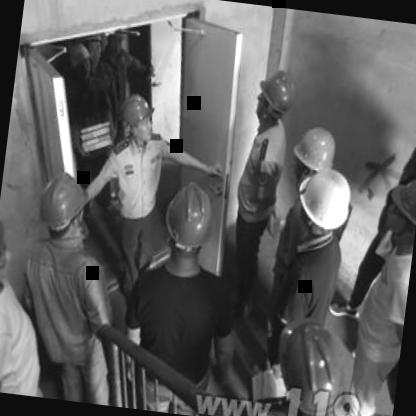helmet: (267, 313, 352, 416), (291, 164, 357, 238), (31, 168, 92, 244), (160, 177, 219, 252), (252, 67, 299, 130), (290, 124, 340, 183), (382, 171, 416, 242), (116, 90, 158, 142), (0, 216, 20, 301), (411, 86, 416, 157)
